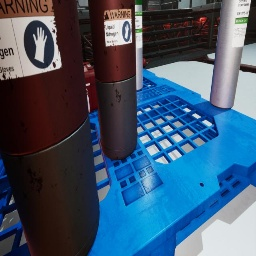0: (210, 0, 251, 109), (135, 0, 143, 91)
FireExtinguisher ]: (143, 58, 151, 68)
FirstAidBox ,: (83, 62, 98, 113)
NitrogenTank ,: (0, 0, 100, 256), (88, 0, 138, 160)
